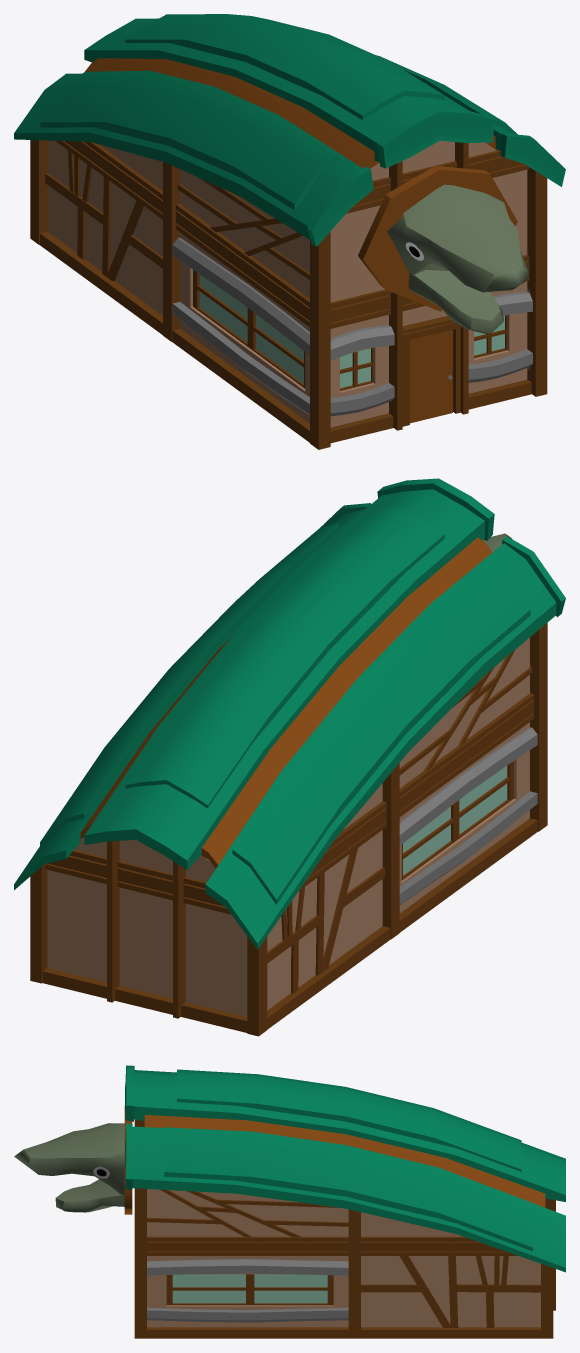
File: Mesh_HOuse_Harbour_Large_Alt.fbx
The picture shows the model from 3 angles, top to bottom: view 1: azimuth 30°, elevation 25°; view 2: azimuth 150°, elevation 25°; view 3: azimuth 270°, elevation 25°; orthographic projection. The views are drawn at different scales.
Parts seen in each view (by area): view 1: HOuse_Harbour_Large_Alt; view 2: HOuse_Harbour_Large_Alt; view 3: HOuse_Harbour_Large_Alt.
Part boxes in pixels (bbox=[...]): HOuse_Harbour_Large_Alt: bbox=[14, 14, 565, 449]; HOuse_Harbour_Large_Alt: bbox=[14, 478, 565, 1036]; HOuse_Harbour_Large_Alt: bbox=[14, 1065, 565, 1338].
Size of the model in its own units: 719 by 852 by 1864.
Materials: 1 (1 with a texture image).
